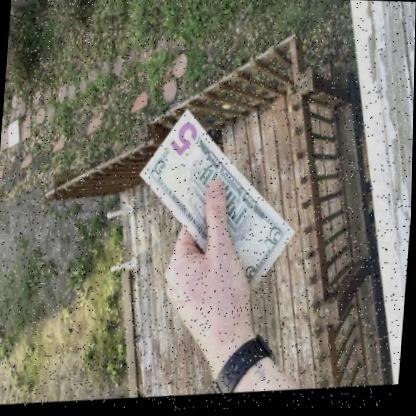five-back: (140, 112, 297, 303)
